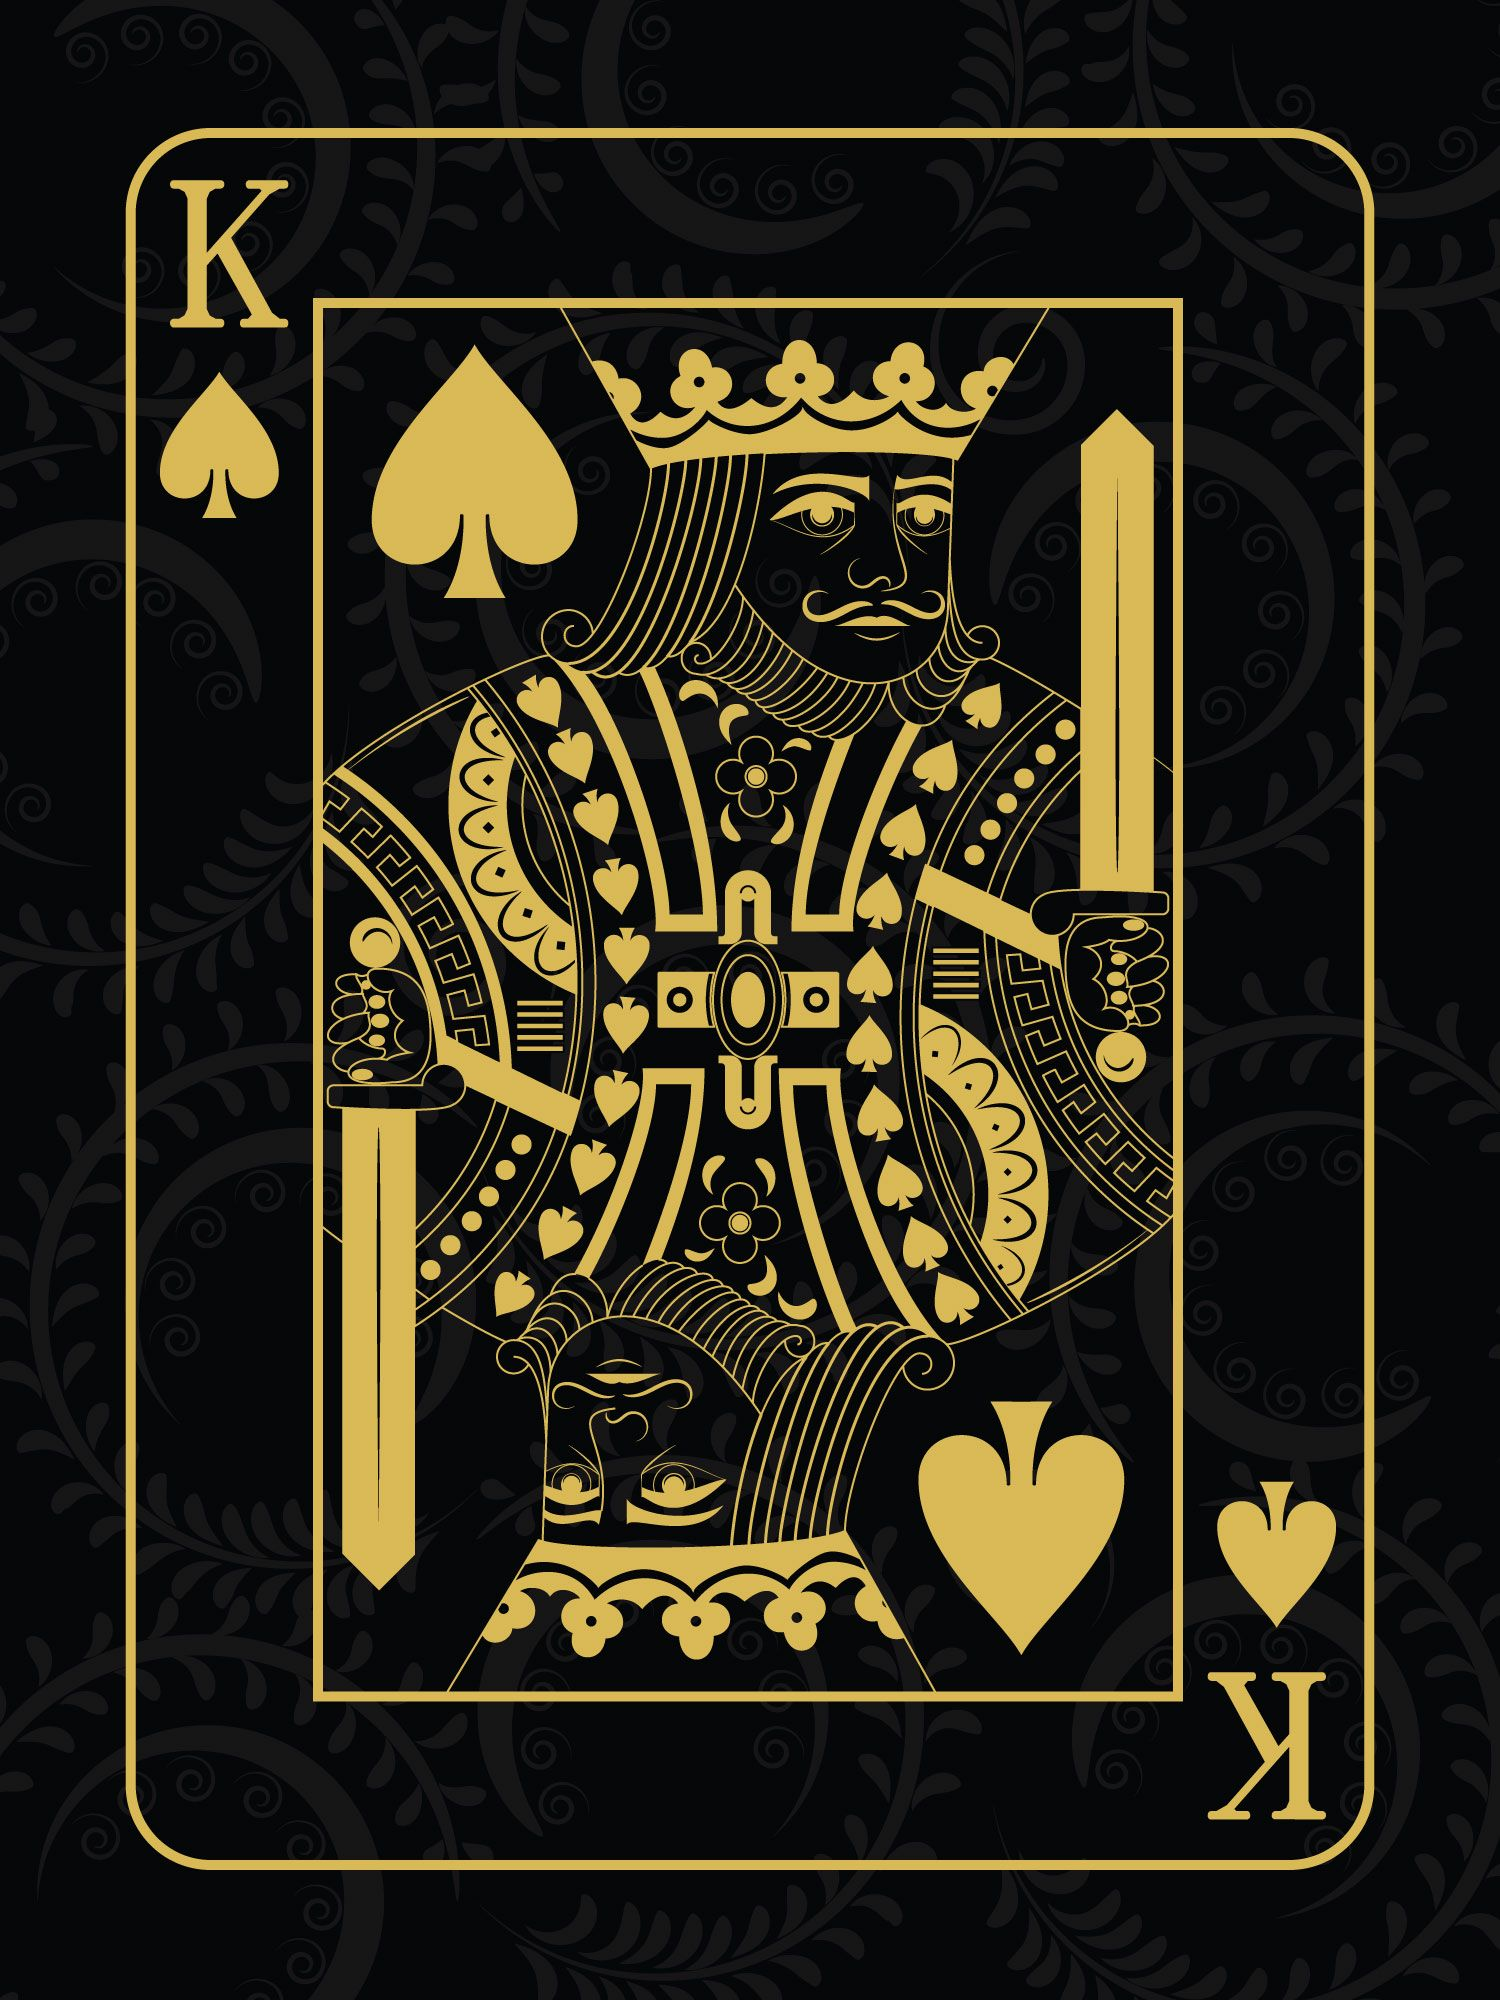king of spades: (125, 138, 1359, 1868)
